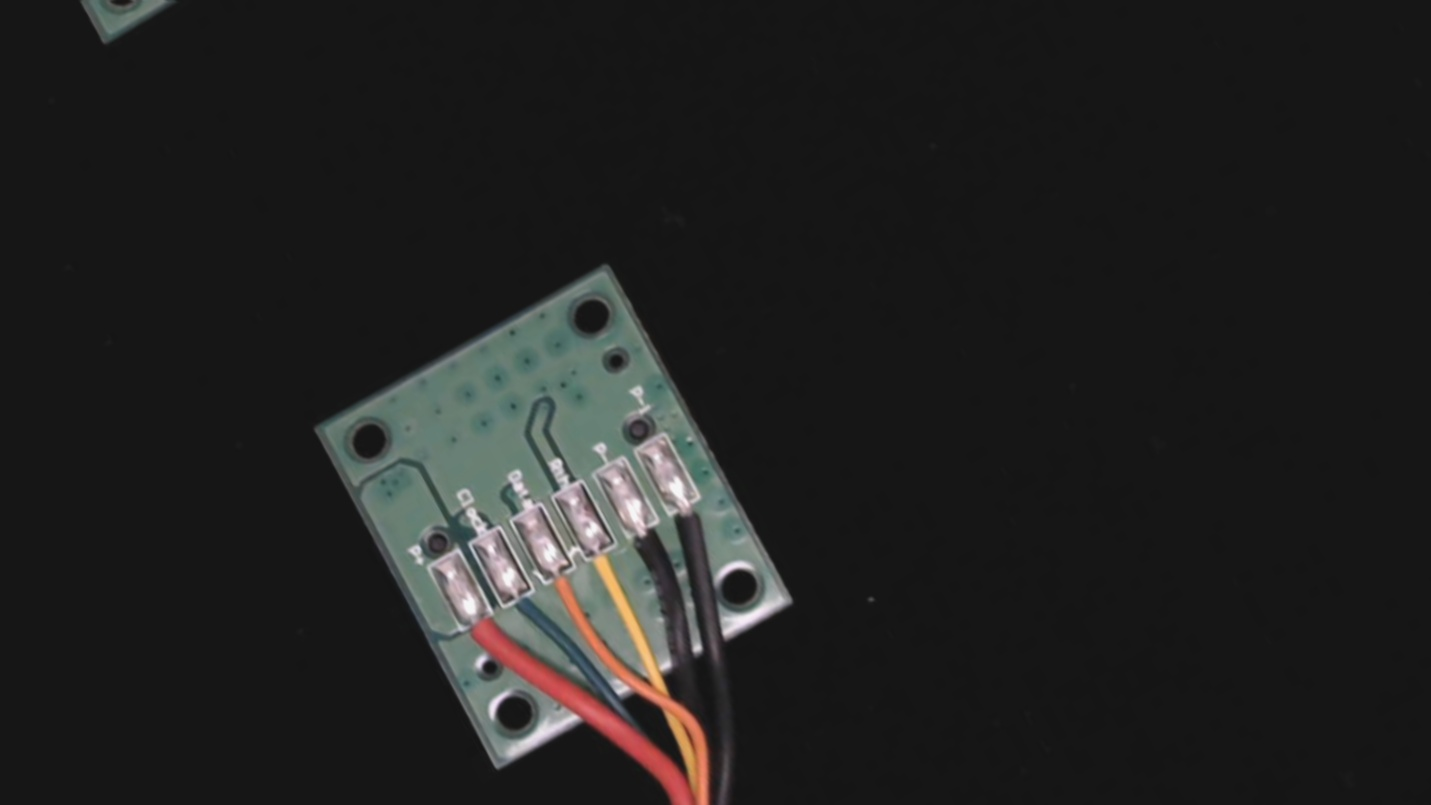Black: (612, 500, 687, 580)
Black1: (654, 477, 729, 558)
Green: (486, 569, 562, 650)
Orange: (526, 547, 607, 637)
Red: (445, 589, 526, 679)
Yellow: (572, 525, 648, 609)
